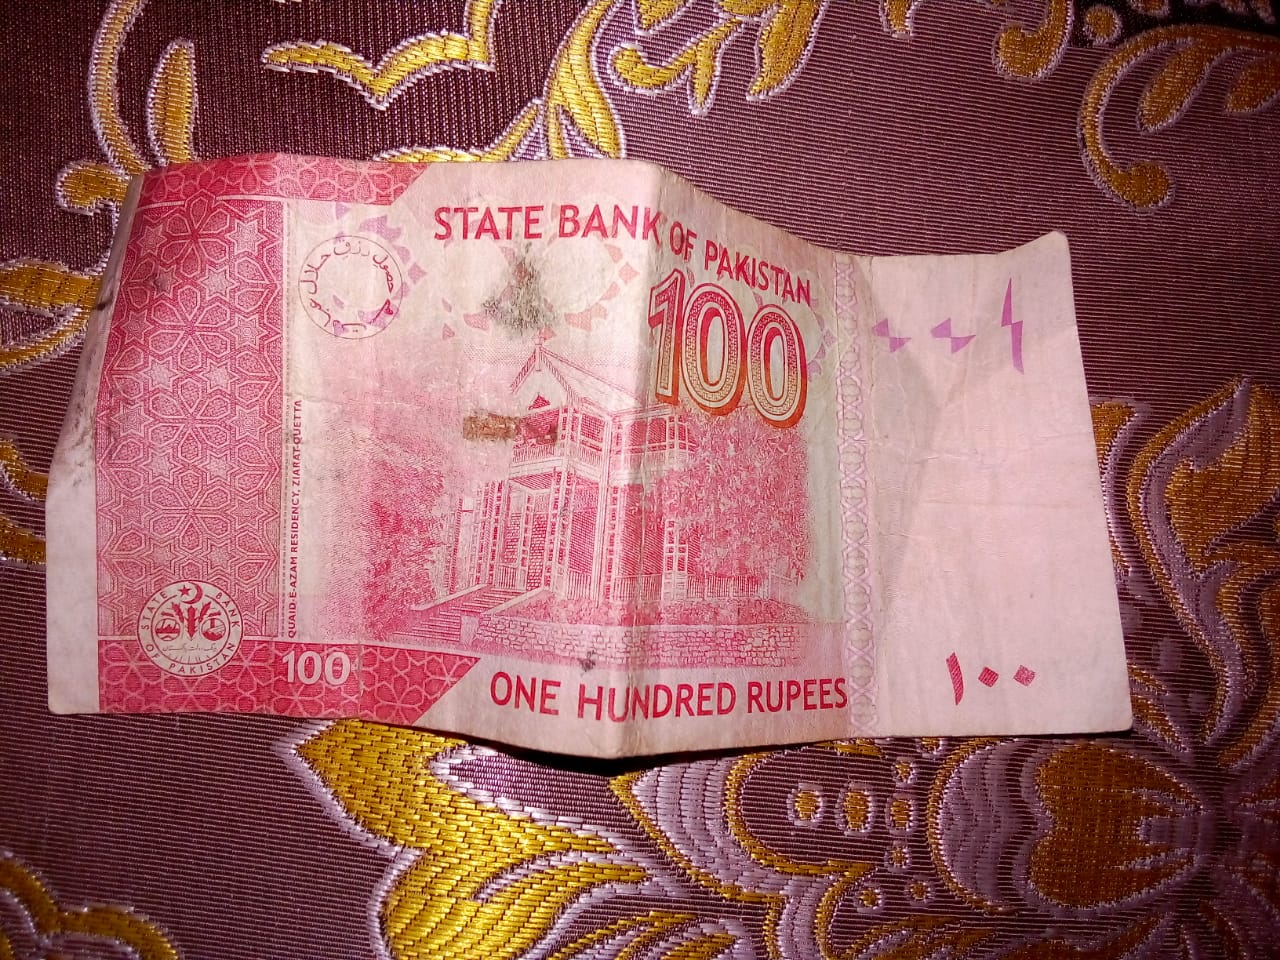100 rupee: (27, 137, 1181, 815)
